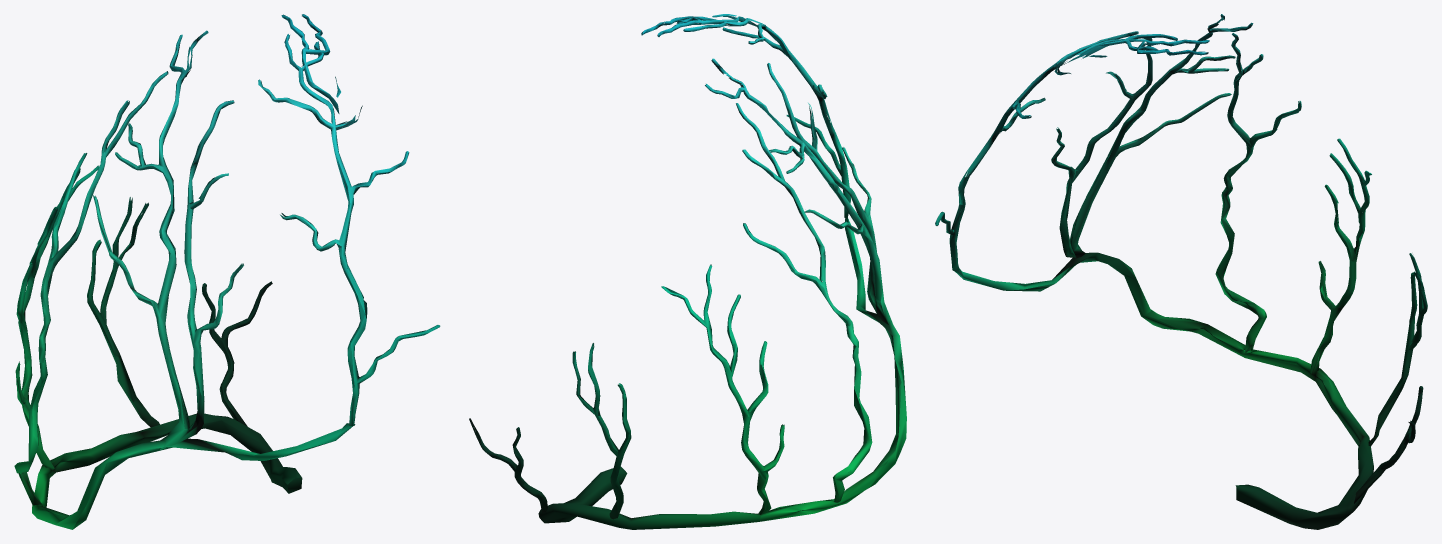
The model's file is zeometry-organic-forms-branching-vein_v2.fbx.
3 renders of one model, left to right at view 1: azimuth 30°, elevation 25°; view 2: azimuth 150°, elevation 25°; view 3: azimuth 270°, elevation 25°, orthographic. The views are drawn at different scales.
Parts seen in each view (by area): view 1: Branching Vein_v2; view 2: Branching Vein_v2; view 3: Branching Vein_v2.
Boxes of the visible parts, x1,y1,x2,y2 form: Branching Vein_v2: (14,14,440,529); Branching Vein_v2: (469,14,906,529); Branching Vein_v2: (935,14,1427,529).
Bounding box in the file's own units: 0.3525 × 0.5 × 0.479.
